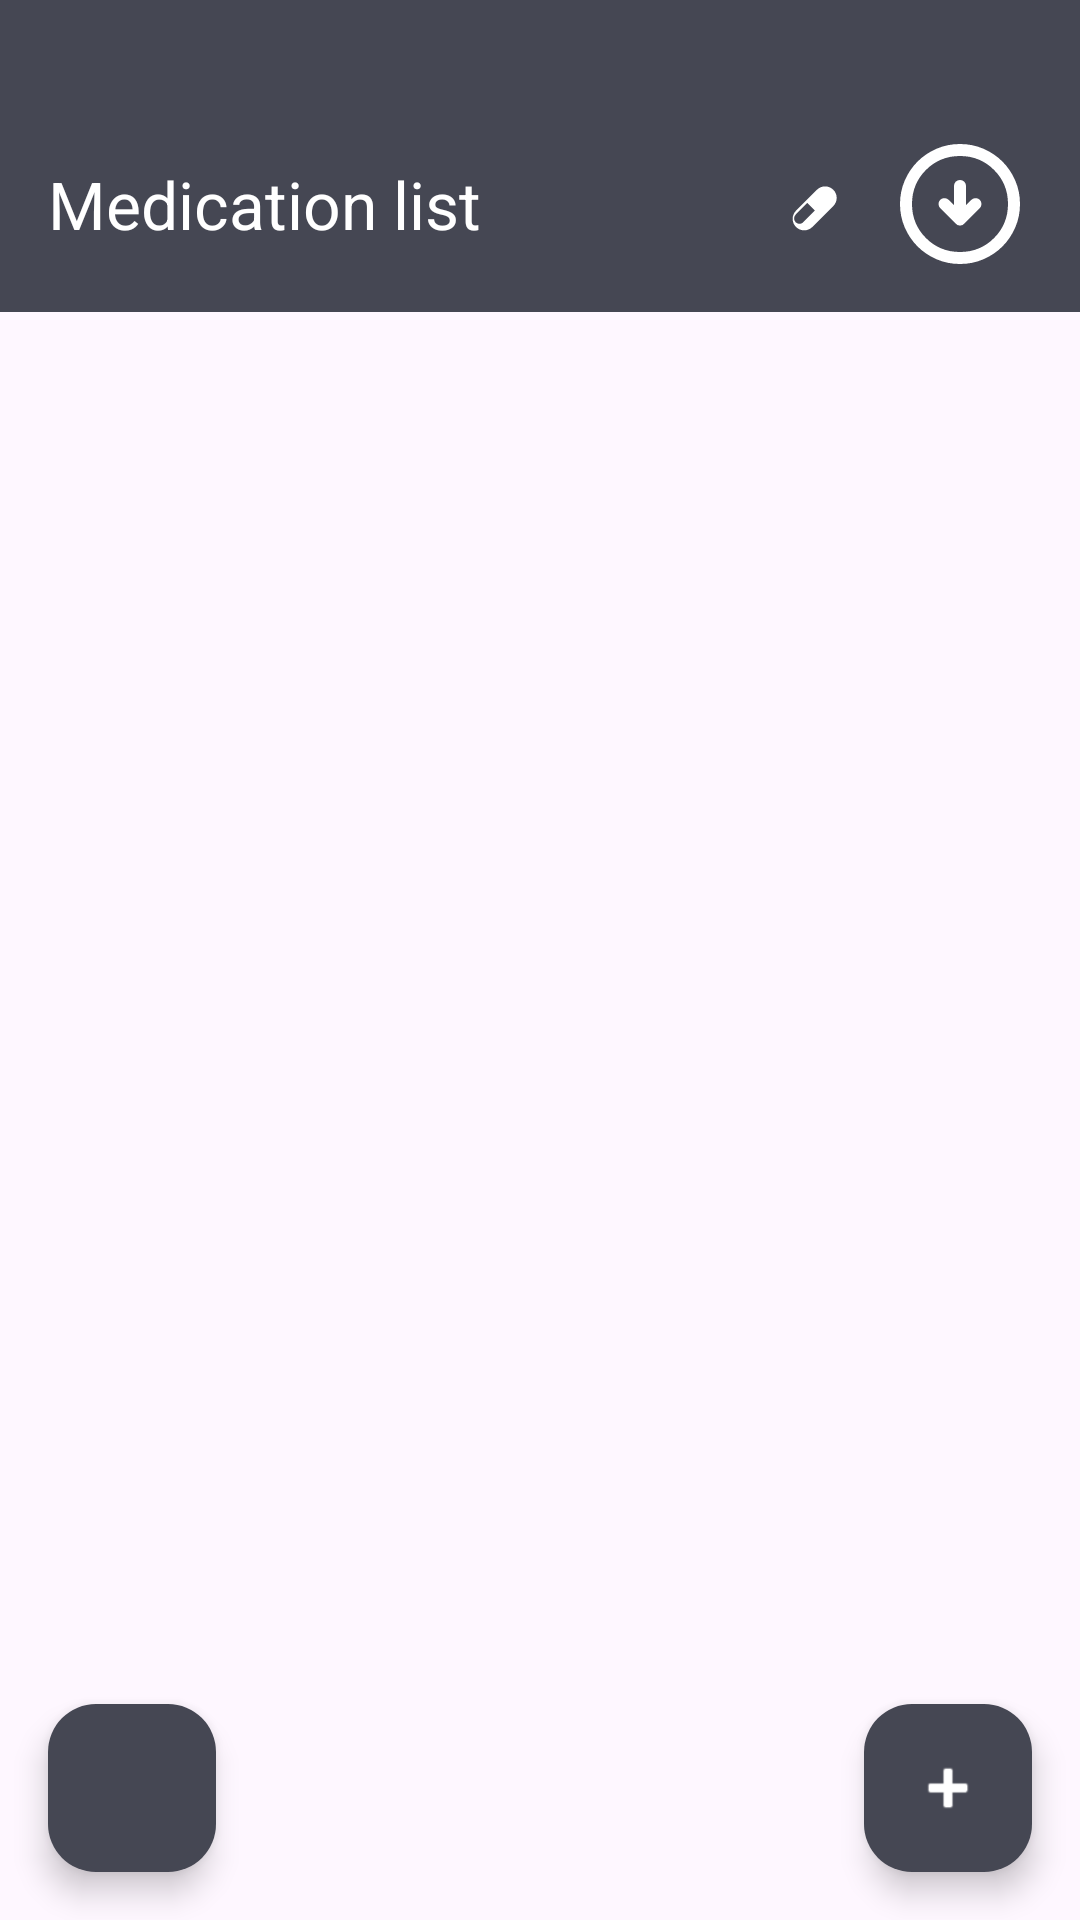

Icon bounding boxes for this 1080w x 1920h phone screenshot, format (x1, y1, x2, y2):
Add: (864, 1704, 1032, 1872)
Export Meds: (900, 144, 1020, 264)
